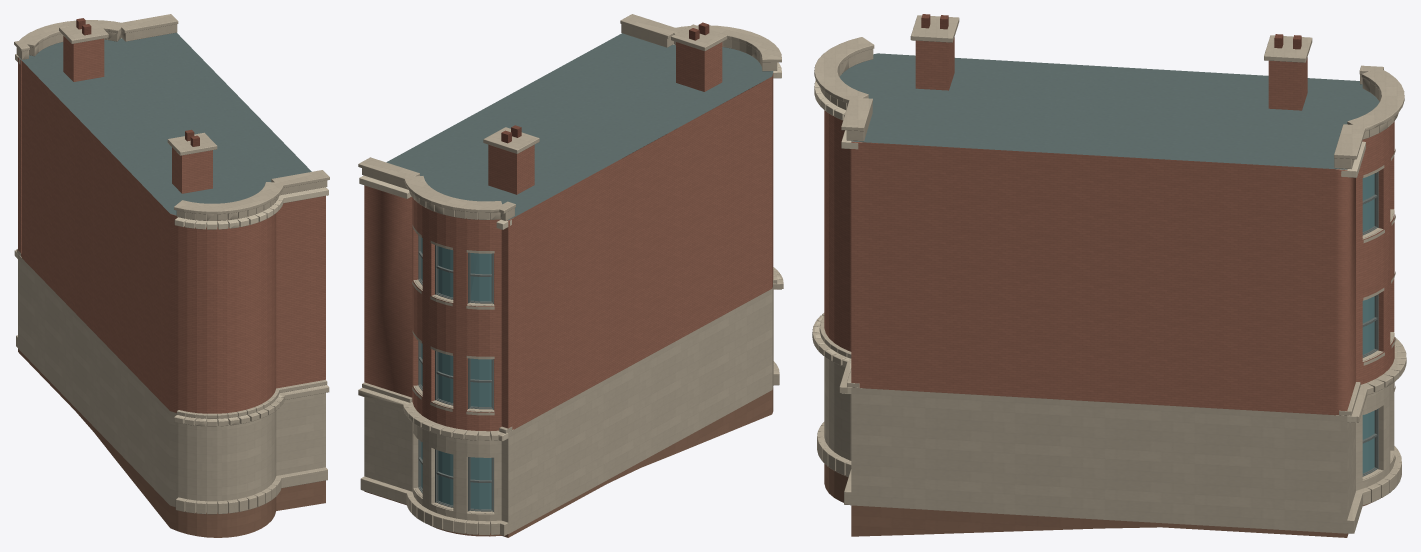
Rendered from bay-state-192.glb.
3 views of the same model, side by side, from view 1: azimuth 30°, elevation 25°; view 2: azimuth 150°, elevation 25°; view 3: azimuth 270°, elevation 25° (orthographic). The views are drawn at different scales.
Parts seen in each view (by area): view 1: BU district -4:3:architecture:brick, BU district -4:3:architecture:stone, BU district -4:3:architecture:roof, BU district -4:3:architecture:brownstone, BU district -4:3:architecture:trim, BU district -4:3:architecture:brickDark; view 2: BU district -4:3:architecture:brick, BU district -4:3:architecture:stone, BU district -4:3:architecture:roof, BU district -4:3:architecture:glass, BU district -4:3:architecture:brownstone, BU192 refinement · frame, BU district -4:3:architecture:trim, BU192 refinement · stone; view 3: BU district -4:3:architecture:brick, BU district -4:3:architecture:stone, BU district -4:3:architecture:roof, BU district -4:3:architecture:brownstone, BU district -4:3:architecture:glass, BU district -4:3:architecture:trim, BU192 refinement · frame.
Boxes of the visible parts, x1,y1,x2,y2 form: BU district -4:3:architecture:brick: [18, 36, 325, 413]; BU district -4:3:architecture:stone: [14, 14, 329, 514]; BU district -4:3:architecture:roof: [18, 32, 311, 215]; BU district -4:3:architecture:brownstone: [18, 349, 325, 537]; BU district -4:3:architecture:trim: [15, 38, 328, 425]; BU district -4:3:architecture:brickDark: [76, 18, 199, 146]; BU district -4:3:architecture:brick: [364, 42, 773, 431]; BU district -4:3:architecture:stone: [358, 14, 783, 535]; BU district -4:3:architecture:roof: [386, 33, 773, 220]; BU district -4:3:architecture:glass: [421, 238, 491, 509]; BU district -4:3:architecture:brownstone: [364, 387, 773, 537]; BU192 refinement · frame: [418, 235, 493, 511]; BU district -4:3:architecture:trim: [359, 44, 781, 440]; BU192 refinement · stone: [415, 279, 492, 513]; BU district -4:3:architecture:brick: [824, 37, 1394, 415]; BU district -4:3:architecture:stone: [812, 15, 1406, 533]; BU district -4:3:architecture:roof: [839, 53, 1379, 169]; BU district -4:3:architecture:brownstone: [824, 464, 1371, 537]; BU district -4:3:architecture:glass: [1362, 173, 1374, 473]; BU district -4:3:architecture:trim: [814, 80, 1365, 422]; BU192 refinement · frame: [1362, 171, 1378, 476].
Bounding box in the file's own units: 8.81 × 15.85 × 18.51.
Materials: 8 (7 with a texture image).
